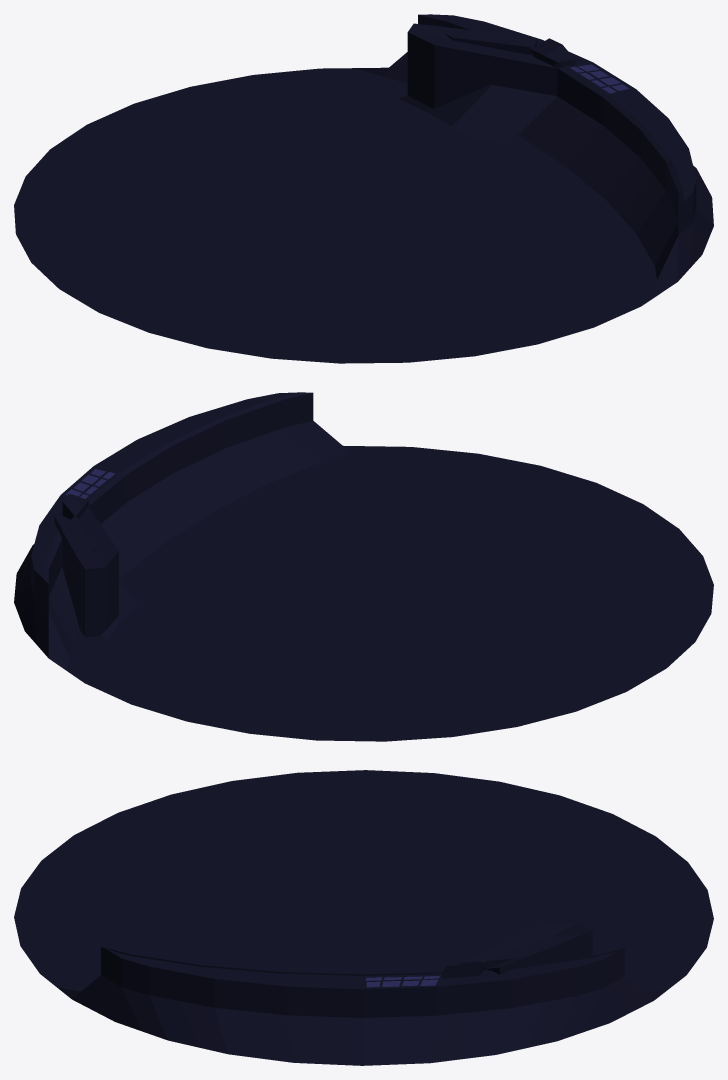
Rendered from cockpit.glb.
3 renders of one model, top to bottom at view 1: azimuth 30°, elevation 25°; view 2: azimuth 150°, elevation 25°; view 3: azimuth 270°, elevation 25°, orthographic.
Visible parts, largest first — view 1: Floor.001; view 2: Floor.001; view 3: Floor.001.
Boxes of the visible parts, x1,y1,x2,y2 form: Floor.001: (14, 14, 713, 363); Floor.001: (14, 392, 713, 741); Floor.001: (14, 770, 713, 1065).
Bounding box in the file's own units: 9.82 × 1.16 × 9.82.
2 materials, 1 textured.
